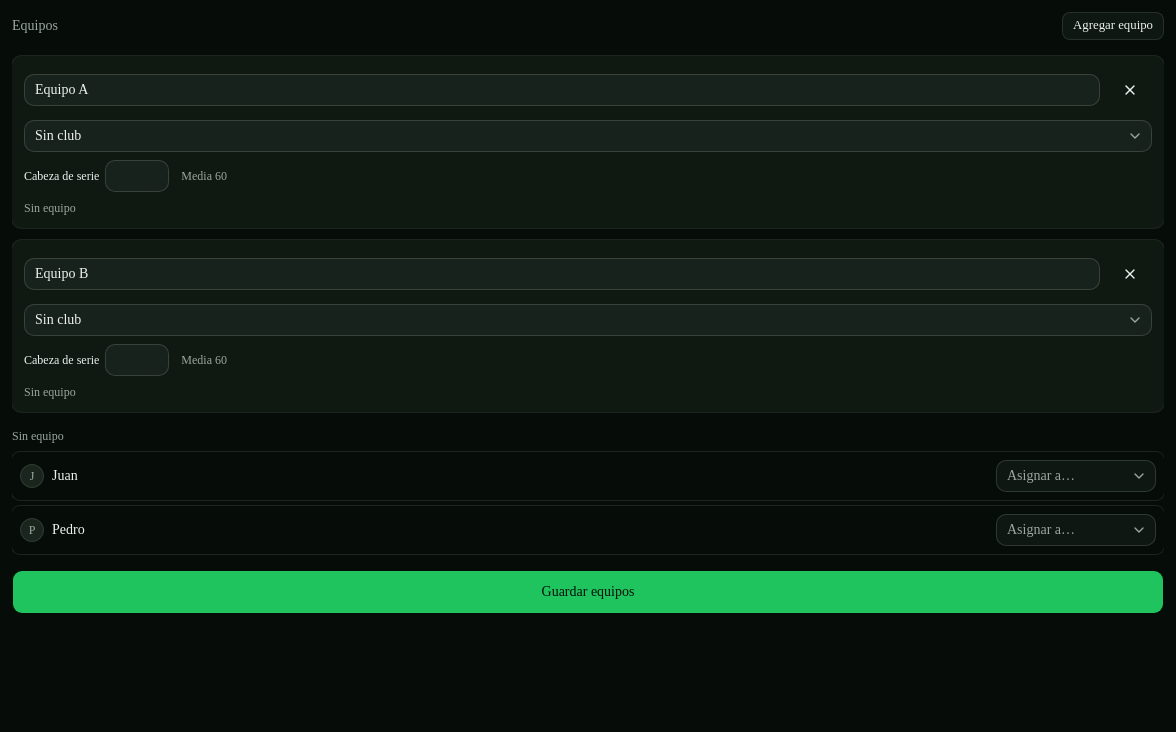
EntriesEditor club select › picking a club renames the entry and prefills its roster from the club
What coordinates should you click on to do the following:
click the 1st dropdown labelled "Sin club"
I would click on:
 (58, 136)
Its box is [24, 120, 1152, 152].
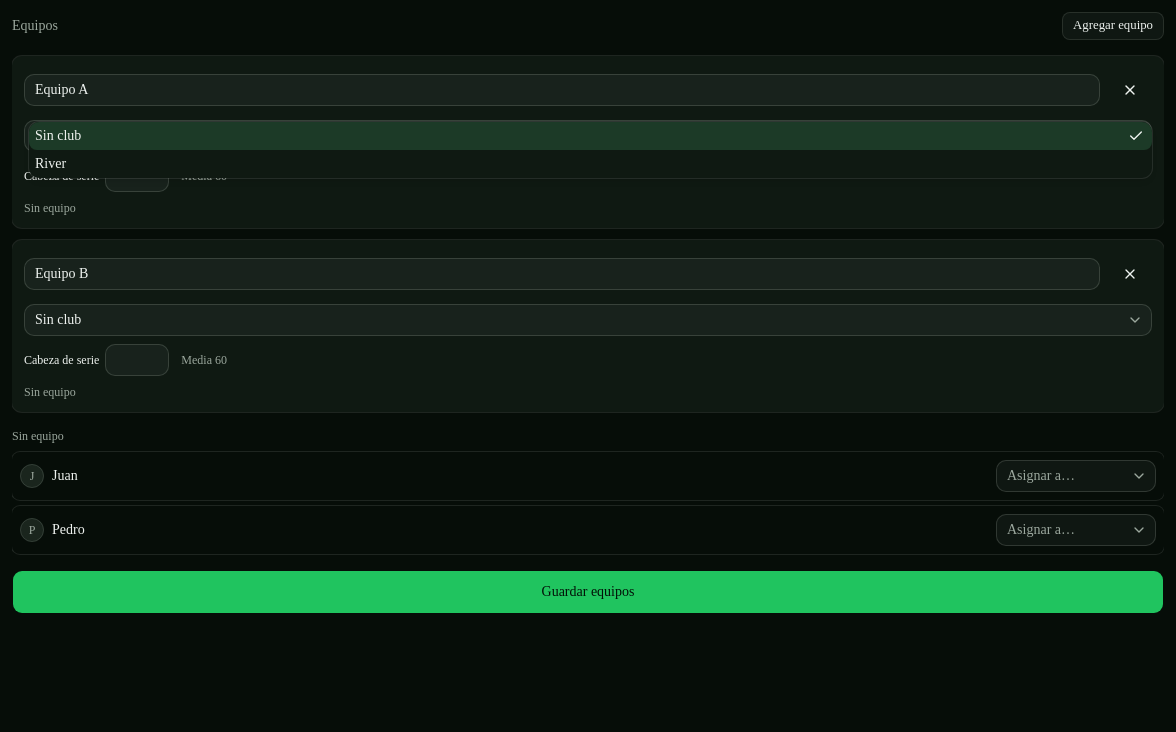
What coordinates should you click on to do the following:
click the option "River"
I would click on:
 (51, 164)
Its box is [35, 156, 66, 171].
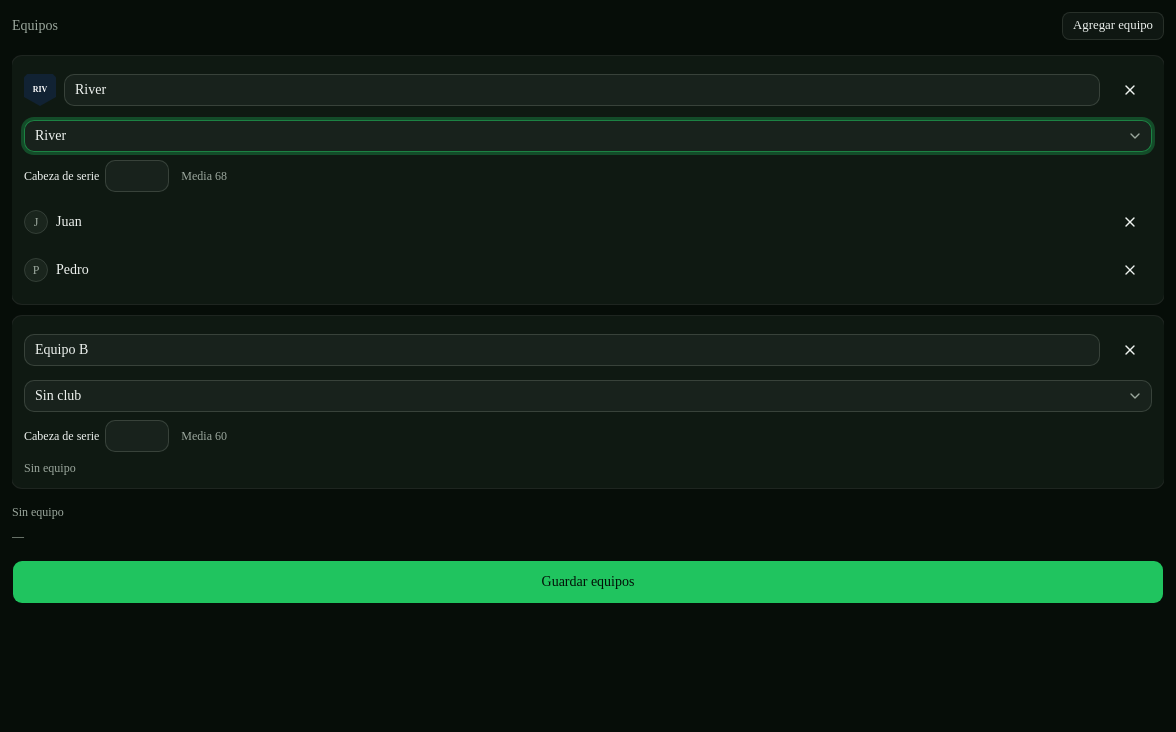
Expected: the text "Juan" is shown, [56, 212, 82, 232]
Result: the 1st field showing "River" is shown at [64, 74, 1100, 106]
